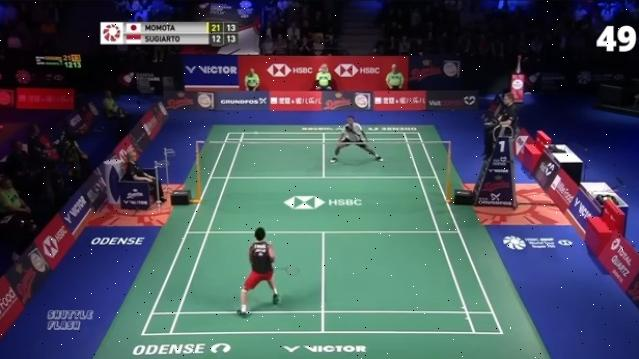Shuttlecock: (253, 131, 259, 137)
